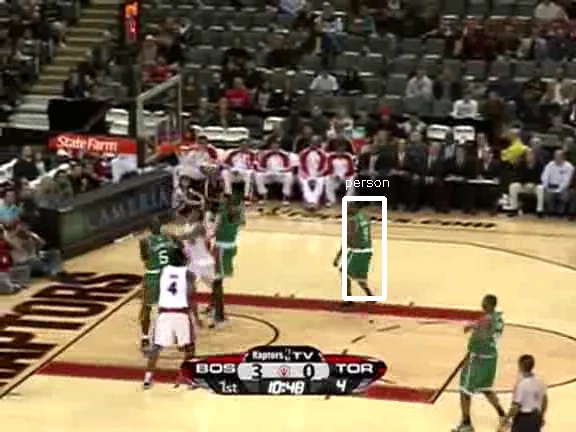person: (344, 203, 378, 284), (343, 203, 377, 284), (345, 203, 379, 284), (344, 202, 378, 283), (344, 204, 378, 285)
target_negative: (25, 357, 568, 421), (259, 272, 518, 353), (299, 359, 426, 407), (539, 53, 547, 423), (276, 196, 517, 207), (288, 337, 408, 359)
